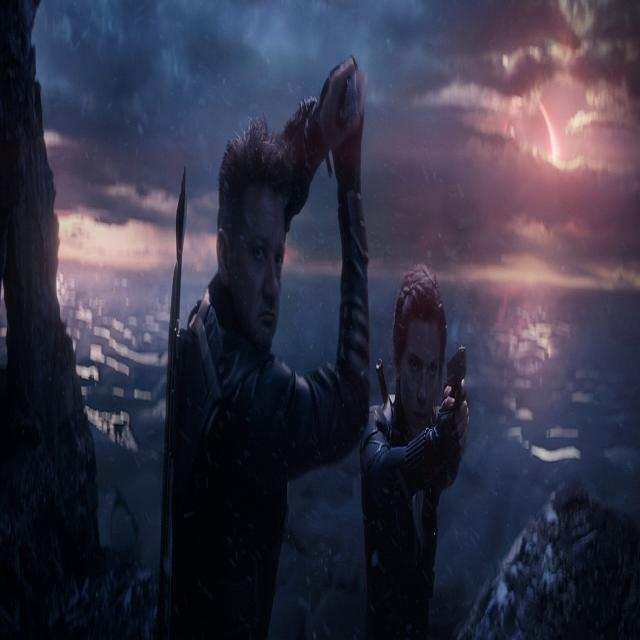gun-knife-thesis - v11 Yolov5 augmented: (444, 338, 468, 462)
